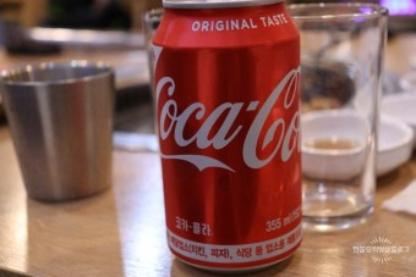Can: (148, 0, 309, 270)
